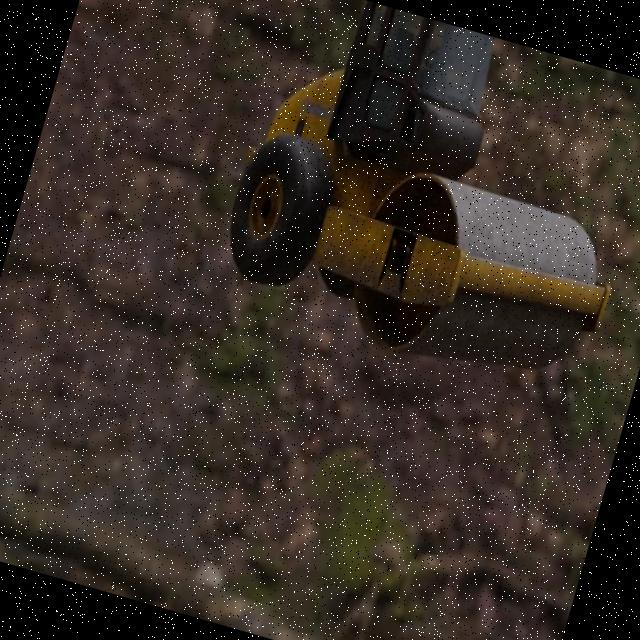Roller: (204, 0, 640, 407)
